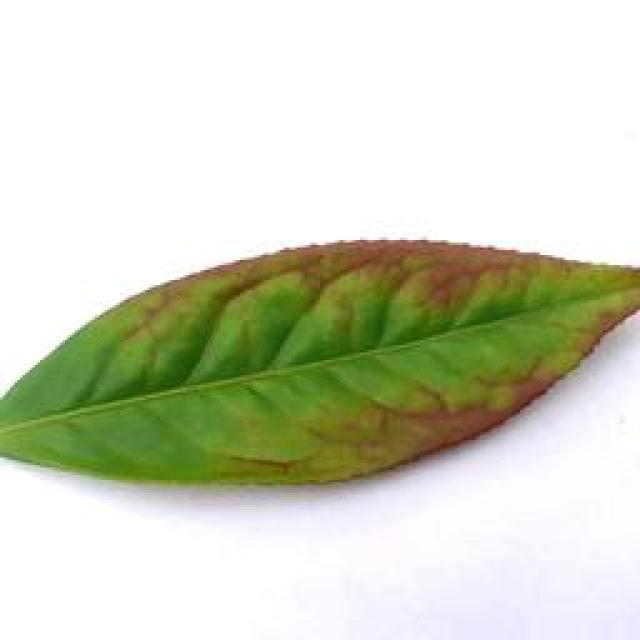Red Leaf Spot: (0, 233, 640, 466)
